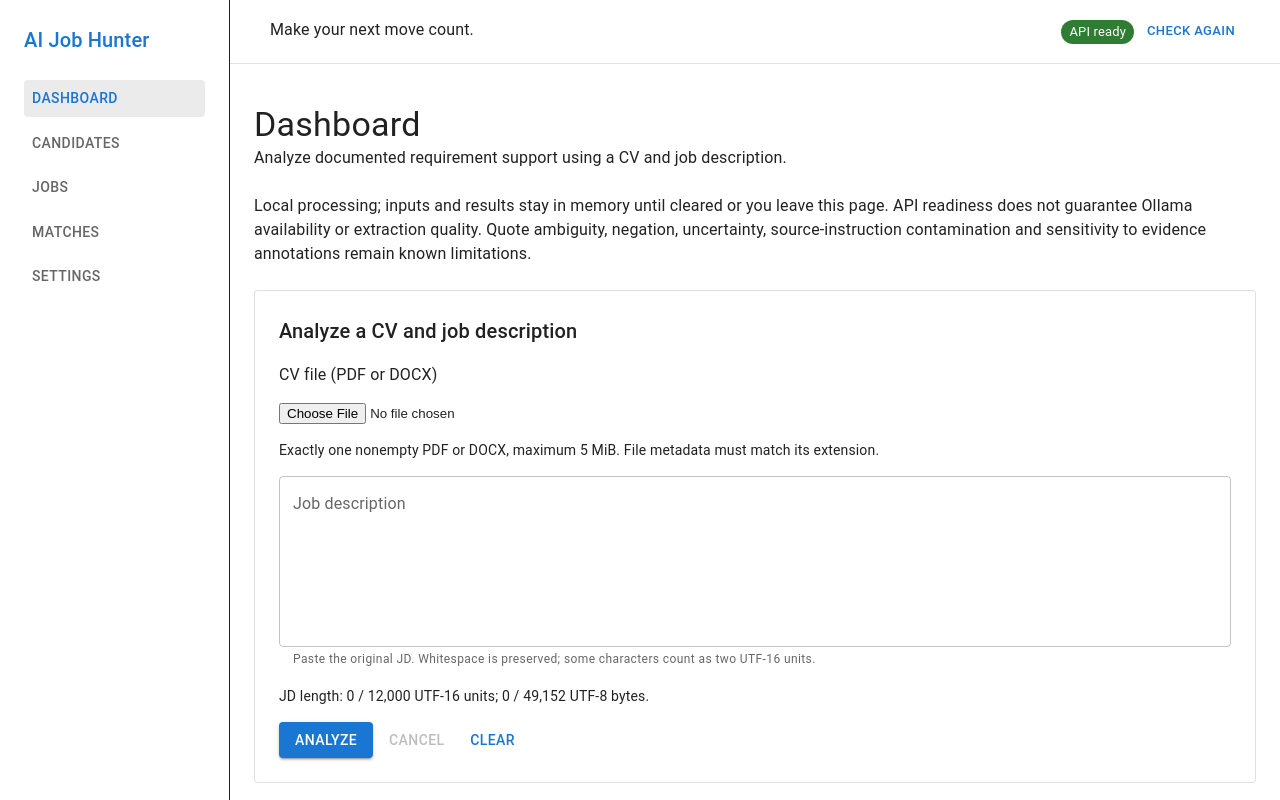
Test case: navigates to the honest Matches placeholder
Click the link "Matches" at (66, 232), box [32,224,100,240]
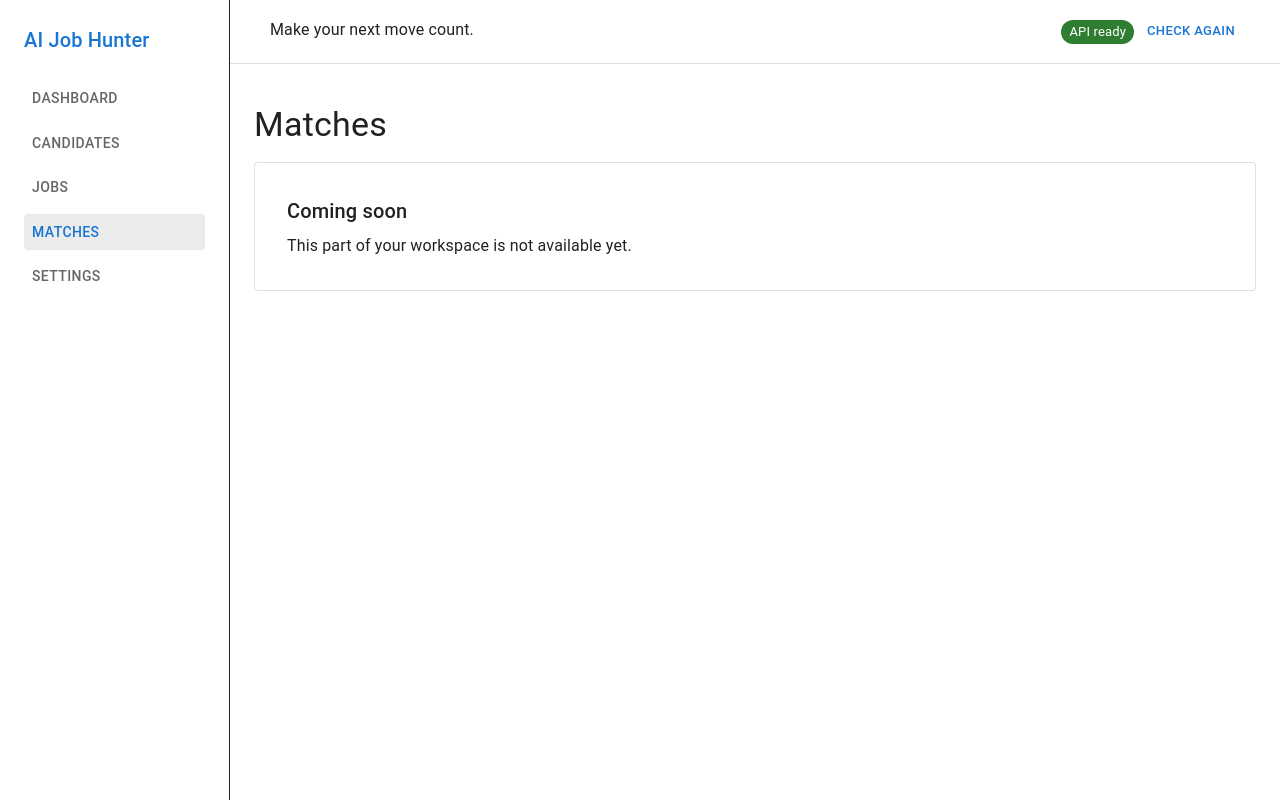
Check: the heading "Matches" is shown, box [254,104,387,144]
Check: the heading "Coming soon" is shown, box [287,199,407,223]
Check: the text "This part of your workspace is not available yet." is shown, box [287,236,632,255]
